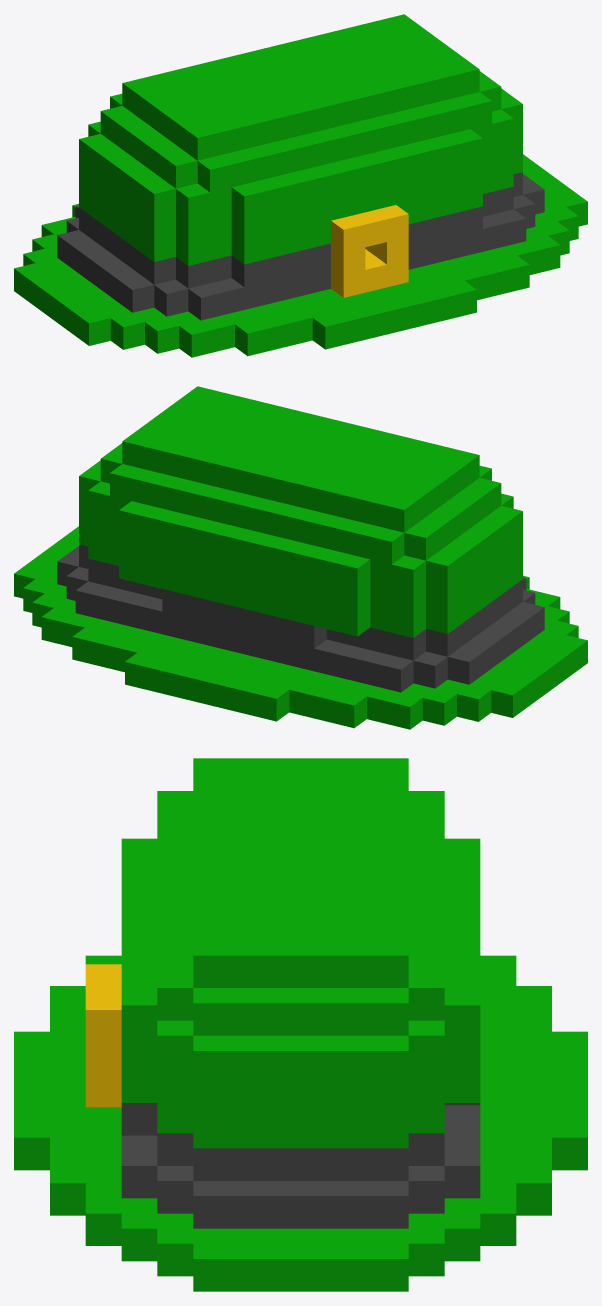
Rendered from accessories_head_leprechaunhat.glb.
3 views of the same model, one above another, from view 1: azimuth 30°, elevation 25°; view 2: azimuth 150°, elevation 25°; view 3: azimuth 270°, elevation 25° (orthographic). The views are drawn at different scales.
Parts seen in each view (by area): view 1: model_0; view 2: model_0; view 3: model_0.
Boxes of the visible parts, x1,y1,x2,y2 form: model_0: [14, 14, 587, 357]; model_0: [14, 386, 587, 729]; model_0: [14, 758, 587, 1291].
Bounding box in the file's own units: 23 × 8 × 16.
